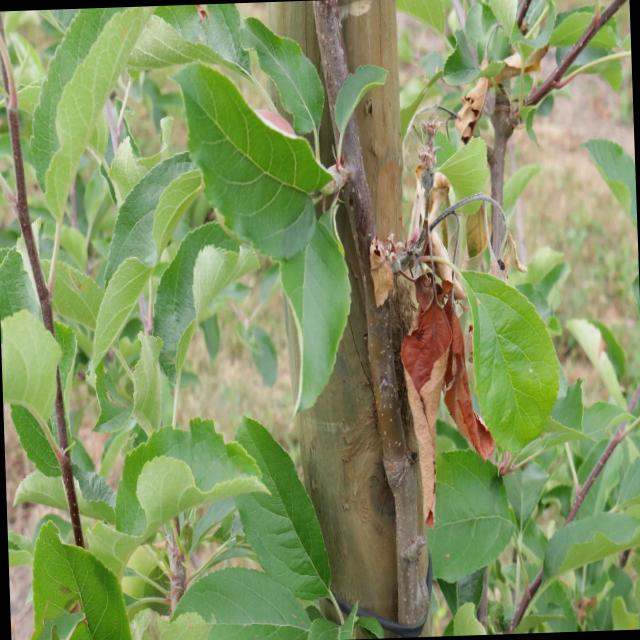-FireBlight-: (366, 68, 520, 533)
